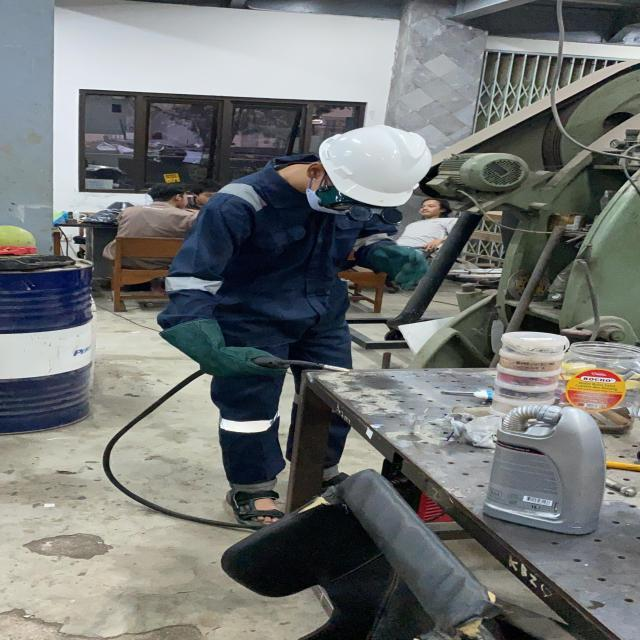glasses: (312, 182, 407, 228)
